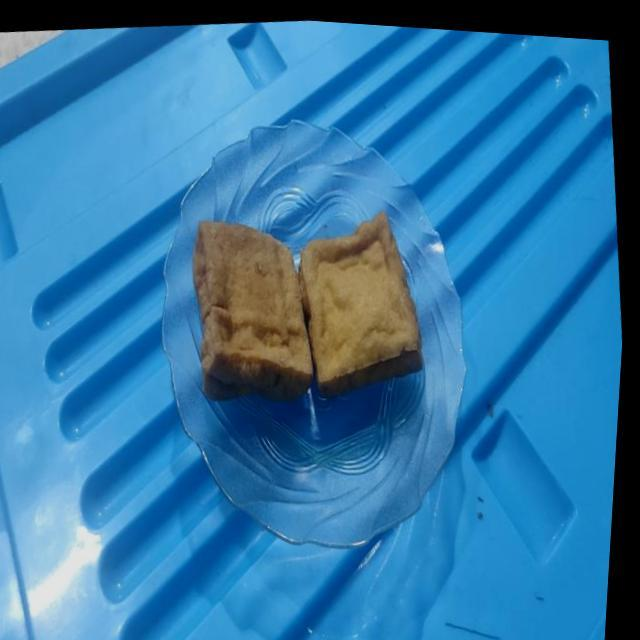tahu_goreng: (299, 211, 422, 396), (192, 220, 312, 400)
